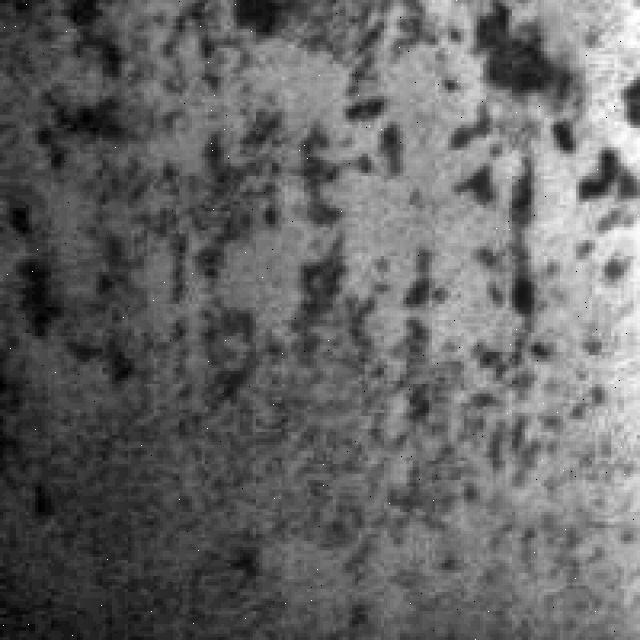Rolled_in_Scale: (346, 22, 618, 582), (3, 92, 208, 630), (202, 51, 404, 493)
